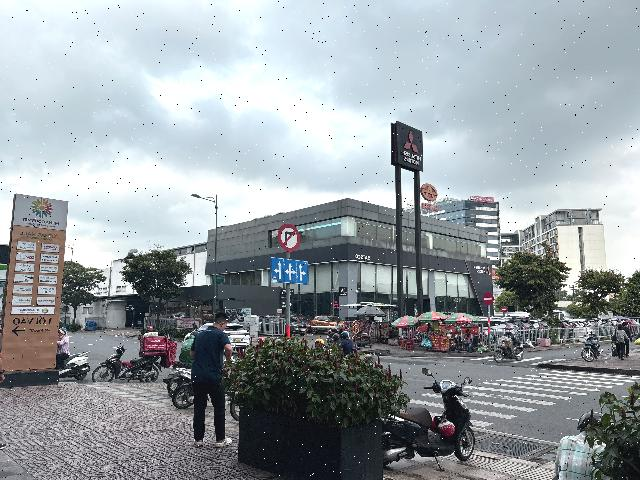cam-di-nguoc-chieu: (482, 292, 494, 305)
cam-re-trai: (278, 223, 300, 252)
